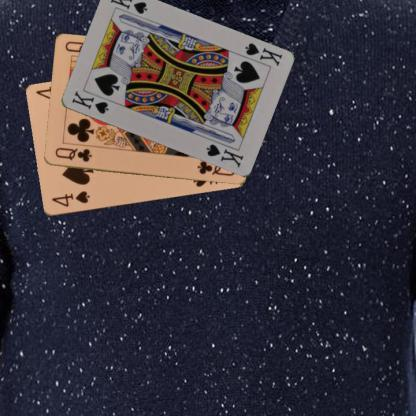4s: (49, 188, 91, 209)
Ks: (69, 88, 110, 116), (242, 41, 284, 68)
Qc: (52, 145, 93, 164)
